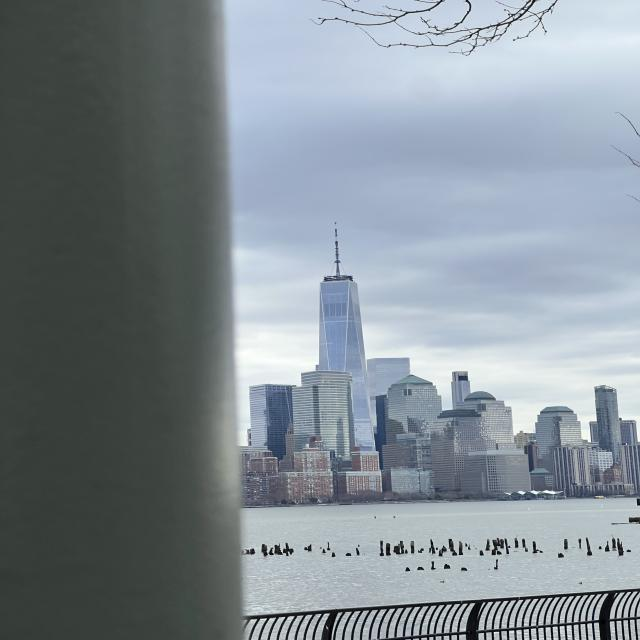WTC: (316, 223, 364, 371)
